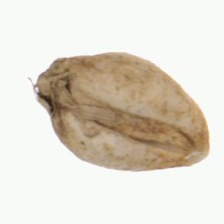L1: (30, 57, 58, 121), (186, 130, 212, 170)
L2: (33, 52, 212, 172)
